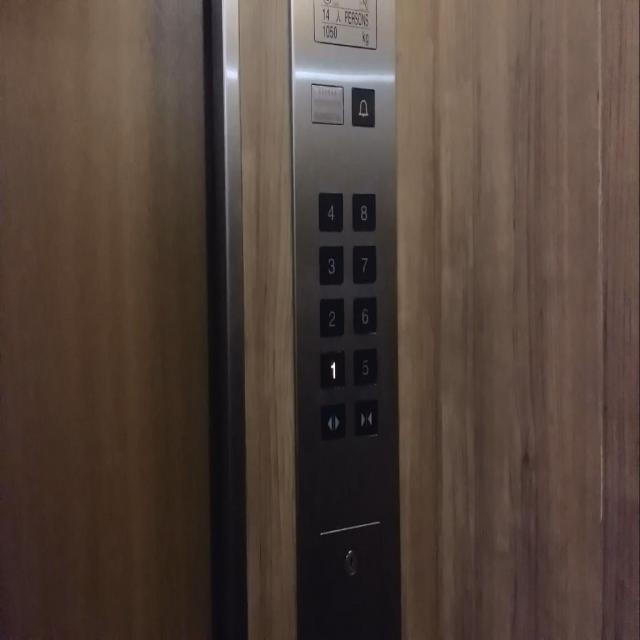1: (319, 348, 346, 387)
2: (318, 294, 344, 339)
3: (318, 242, 344, 286)
4: (317, 189, 344, 233)
5: (351, 346, 378, 387)
6: (352, 294, 378, 336)
7: (350, 242, 378, 286)
8: (350, 189, 377, 234)
alarm: (350, 83, 376, 129)
close: (352, 398, 379, 439)
keyhole: (342, 544, 358, 580)
open: (318, 401, 346, 442)
